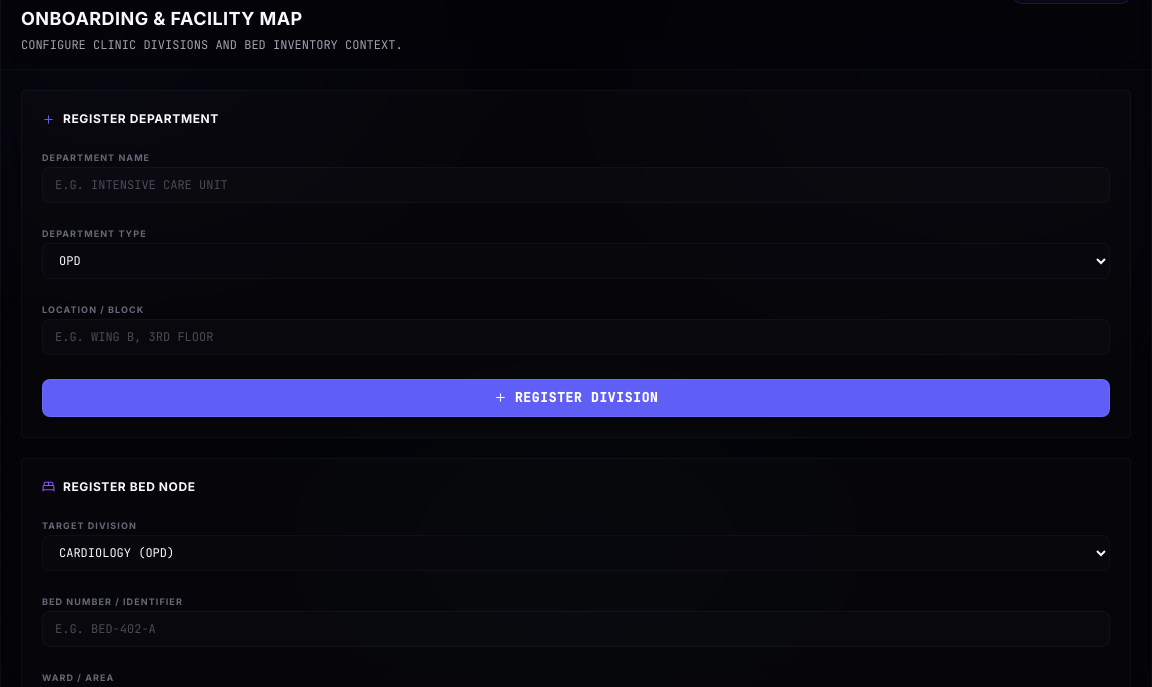
it: HospitalSetupPanel › loads departments and creates a new department
Type "Emergency" into the field labelled "Department Name".
click(576, 185); type("Emergency")  # box [42,167,1110,203]
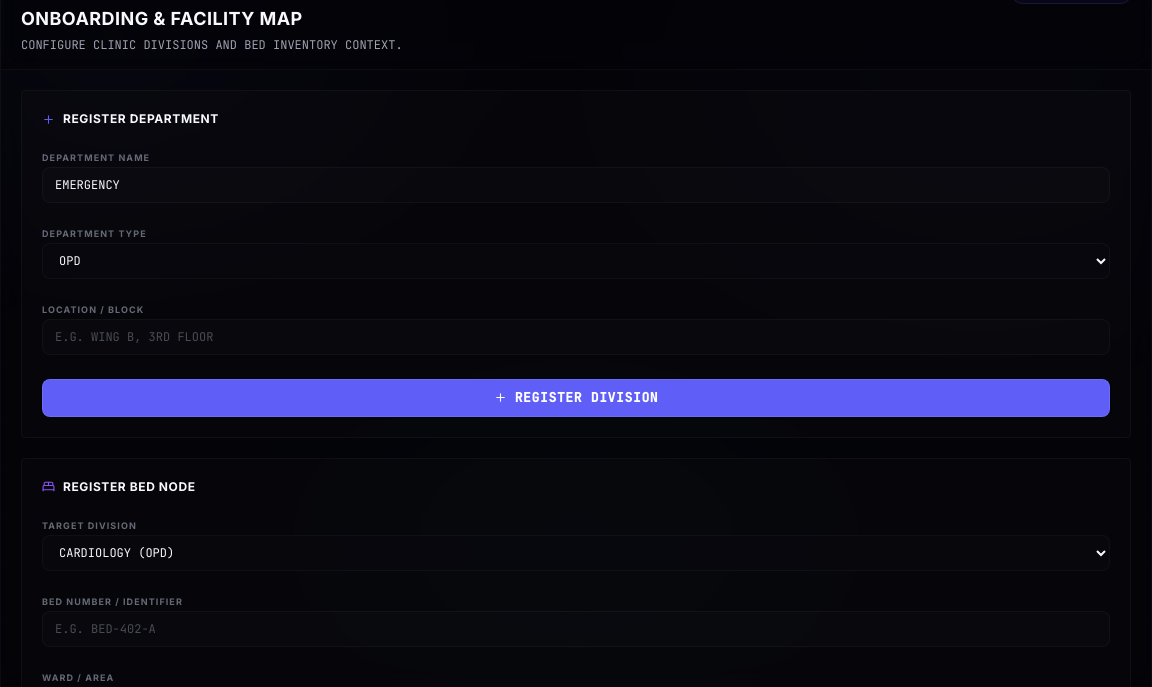
Select "Emergency" in the dropdown labelled "Department Type" at [576, 261], box [42,243,1110,279]
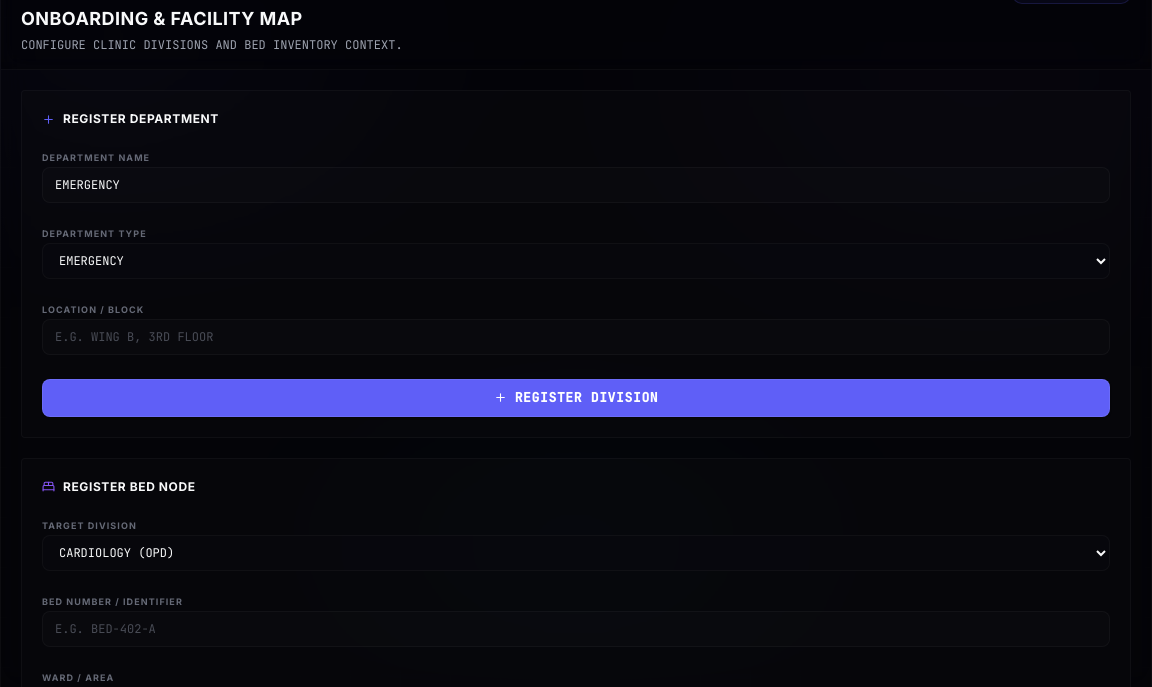
Type "Ground" into the field named "Department location".
click(576, 337); type("Ground")  # box [42,319,1110,355]
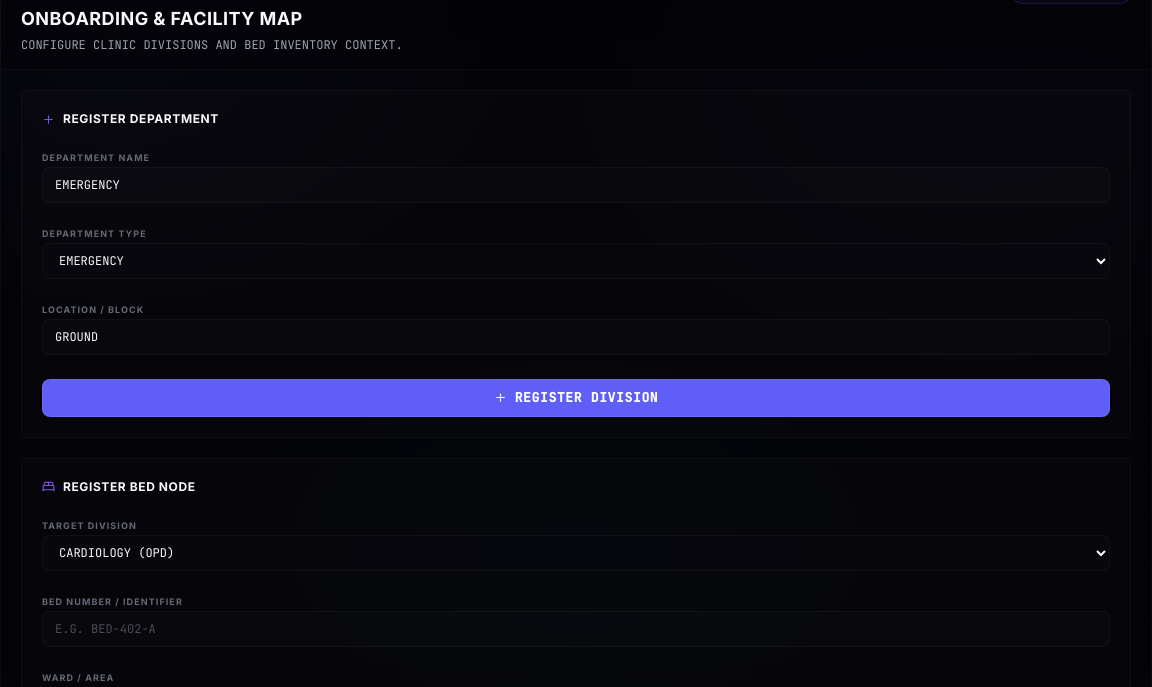
Click the button "Register Division".
click(576, 398)  # box [42,379,1110,416]
(page scrolled)
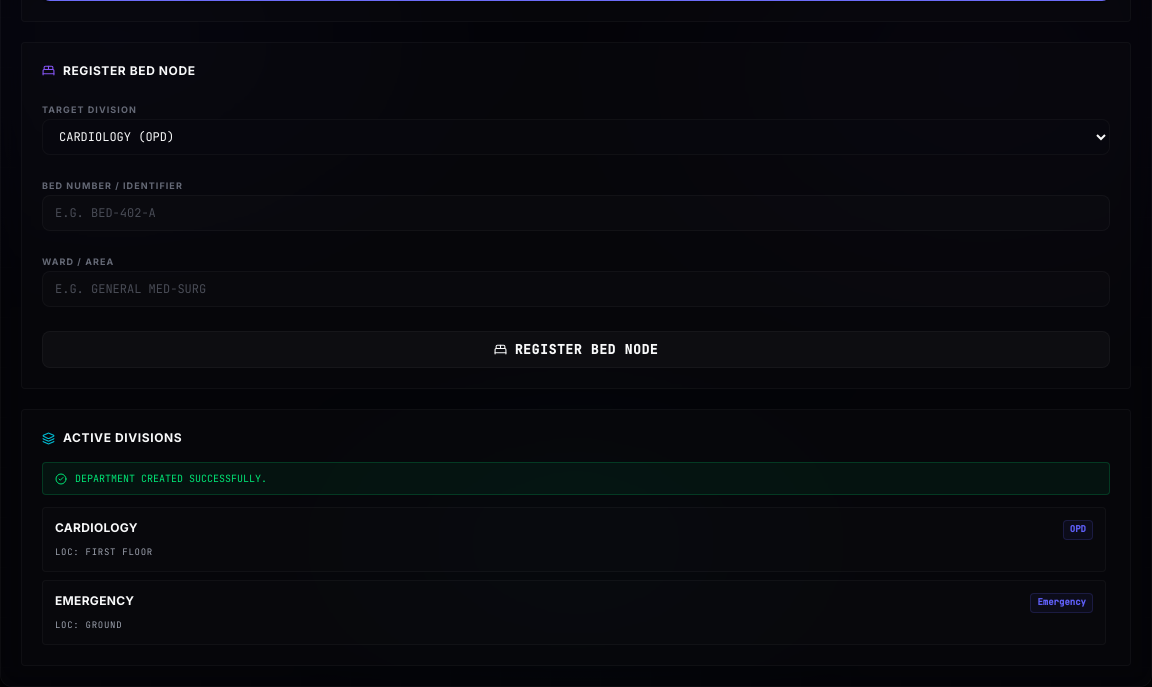
Check: the text "Department created successfully." is shown, box [75,471,267,486]
